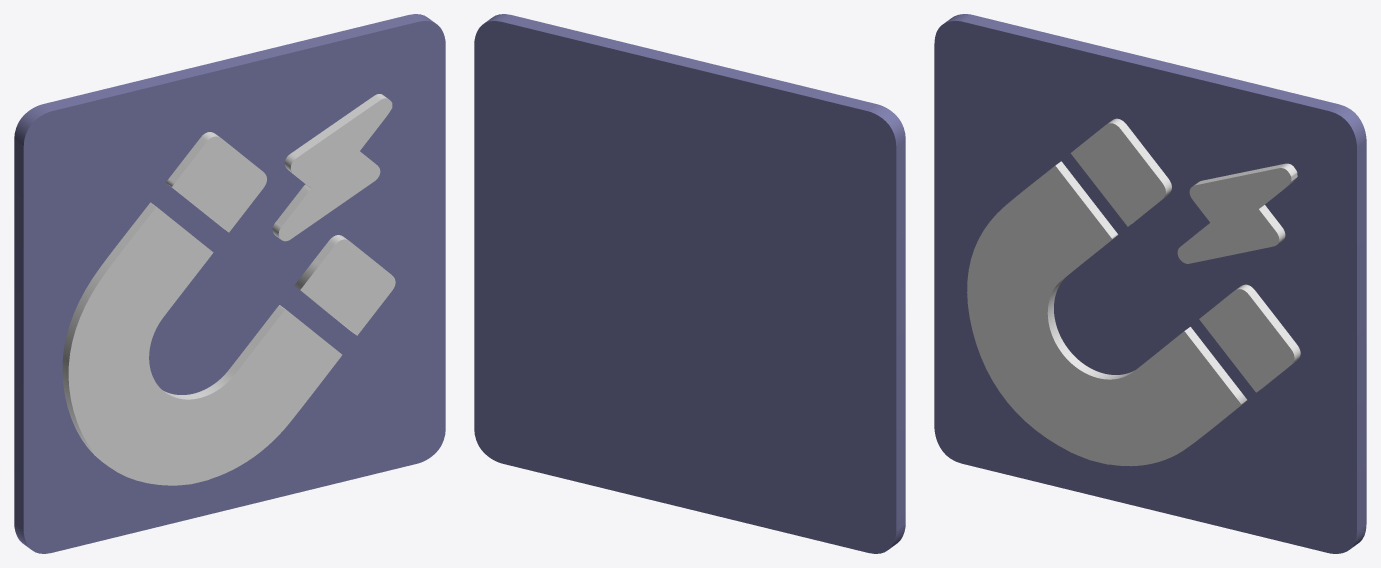
The model's file is iconmaggnet.fbx.
The picture shows the model from 3 angles, left to right: view 1: azimuth 30°, elevation 25°; view 2: azimuth 150°, elevation 25°; view 3: azimuth 330°, elevation 25°; orthographic projection.
Visible parts, largest first — view 1: Curve.010; view 2: Curve.010; view 3: Curve.010.
Boxes of the visible parts, box(x1,y1,x2,y2) form: Curve.010: box(14, 14, 445, 553); Curve.010: box(474, 14, 905, 553); Curve.010: box(934, 14, 1366, 553).
Size of the model in its own units: 5.13 by 5.13 by 0.3284.
